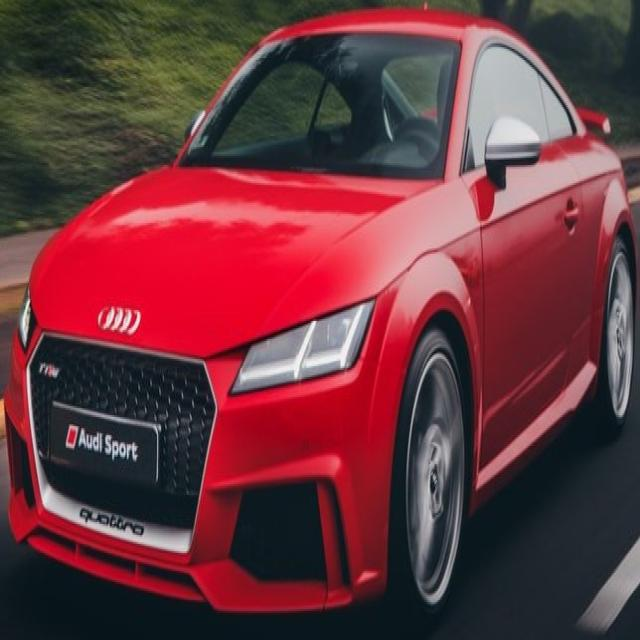red: (10, 4, 638, 602)
